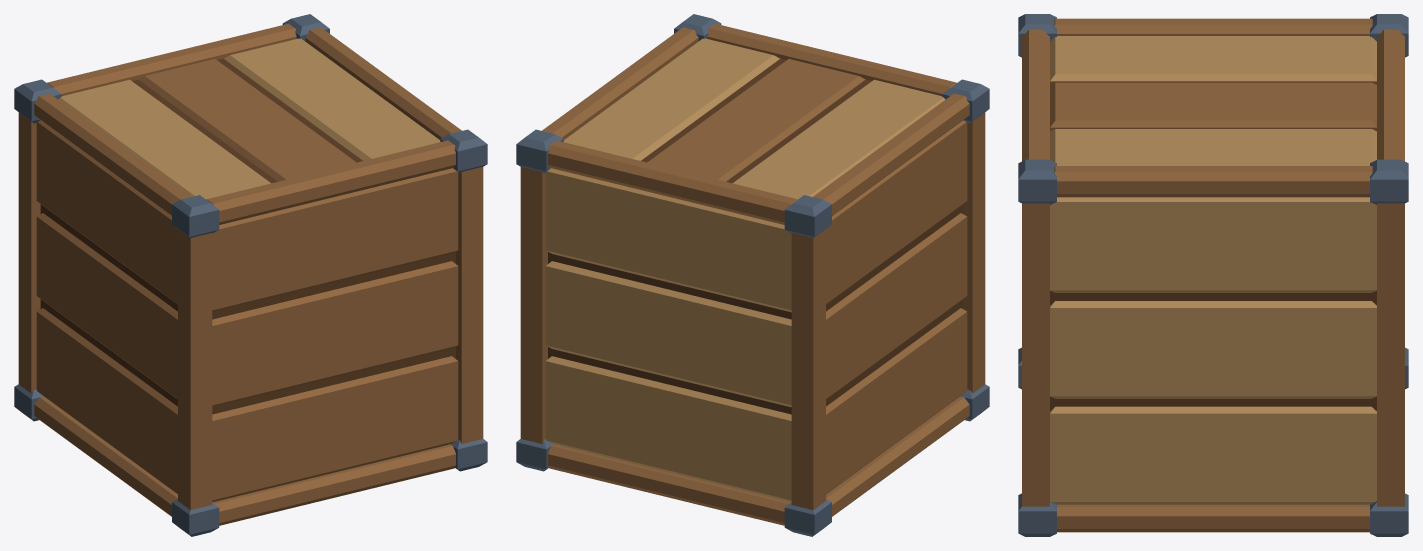
File: Crate_30.glb
3 renders of one model, left to right at view 1: azimuth 30°, elevation 25°; view 2: azimuth 150°, elevation 25°; view 3: azimuth 270°, elevation 25°, orthographic. The views are drawn at different scales.
Parts seen in each view (by area): view 1: Crate_30; view 2: Crate_30; view 3: Crate_30.
Part boxes in pixels (box(x1,y1,x2,y2)): Crate_30: box(14, 14, 487, 536); Crate_30: box(516, 14, 989, 536); Crate_30: box(1018, 14, 1408, 536).
Size of the model in its own units: 2.19 by 2.31 by 2.22.
